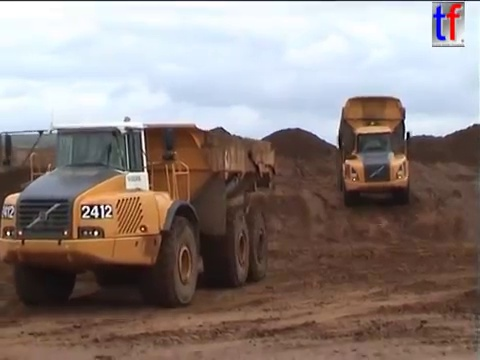truck: (1, 119, 279, 310), (334, 94, 412, 208)
